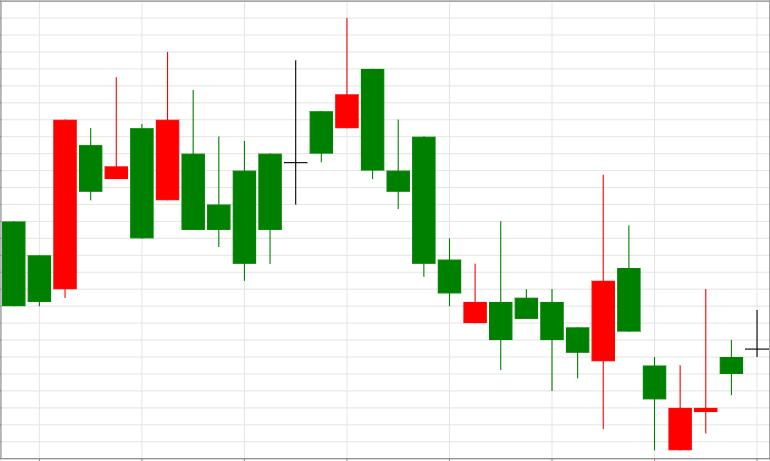bullish_engulfing_rise: (362, 69, 614, 431)
shooting_star_fall: (233, 19, 358, 281)
